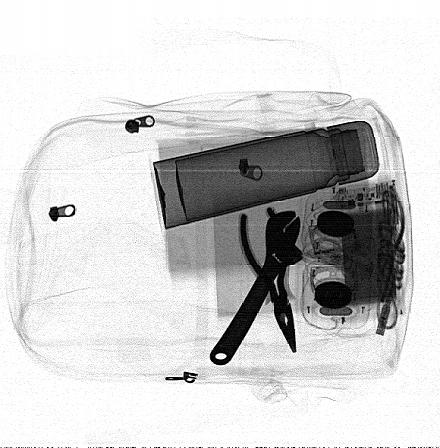Pliers: (239, 206, 297, 354)
Powerbank: (335, 179, 409, 327)
Wrench: (209, 210, 304, 366)
